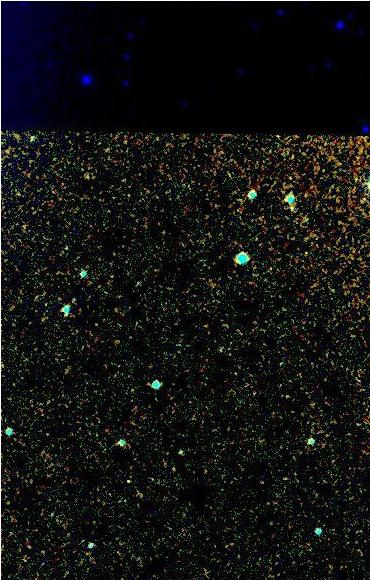star: (114, 466, 144, 496)
